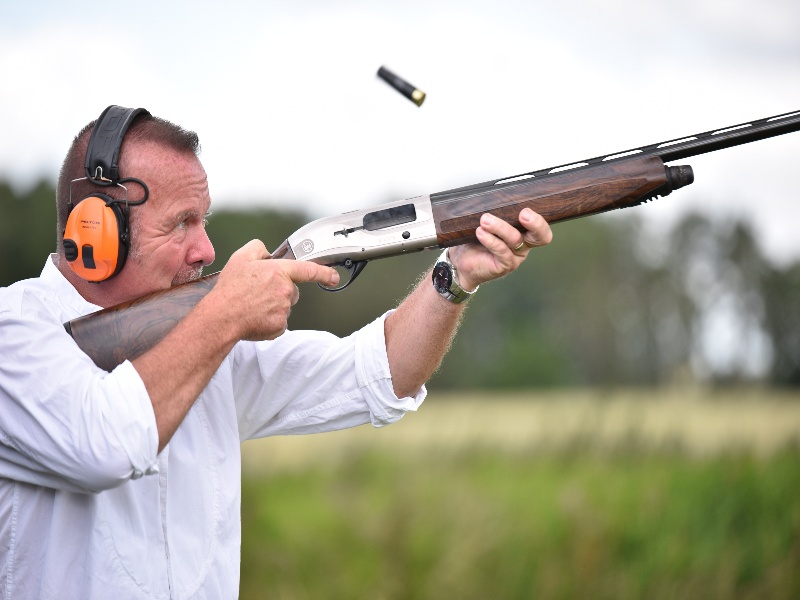person: (1, 108, 553, 600)
weapon: (64, 111, 800, 371)
